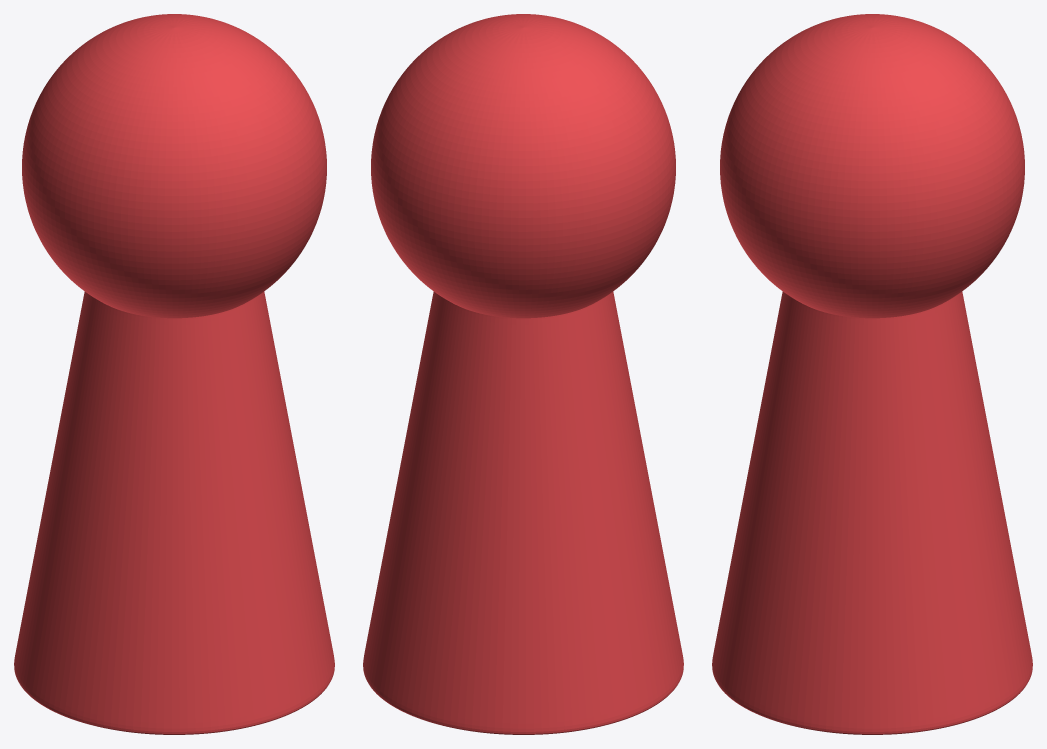
The model's file is game_figure.fbx.
3 renders of one model, left to right at view 1: azimuth 30°, elevation 25°; view 2: azimuth 150°, elevation 25°; view 3: azimuth 270°, elevation 25°, orthographic.
Parts seen in each view (by area): view 1: Cylinder, Sphere; view 2: Cylinder, Sphere; view 3: Cylinder, Sphere.
Boxes of the visible parts, x1,y1,x2,y2 form: Cylinder: [14, 291, 334, 734]; Sphere: [22, 14, 326, 318]; Cylinder: [363, 291, 683, 734]; Sphere: [371, 14, 675, 318]; Cylinder: [712, 291, 1032, 734]; Sphere: [720, 14, 1024, 318].
Bounding box in the file's own units: 197 × 435 × 197.
